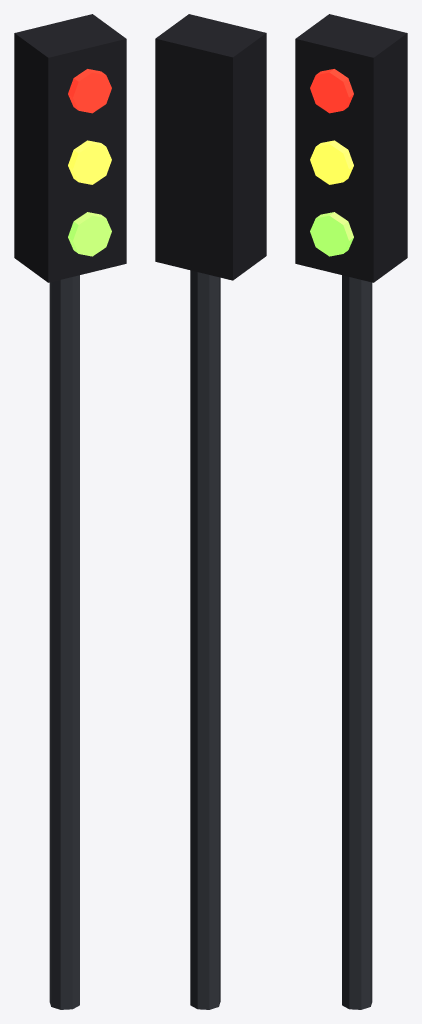
File: traffic_light.glb
3 views of the same model, side by side, from view 1: azimuth 30°, elevation 25°; view 2: azimuth 150°, elevation 25°; view 3: azimuth 330°, elevation 25° (orthographic).
Parts seen in each view (by area): view 1: traffic_light; view 2: traffic_light; view 3: traffic_light.
Part boxes in pixels (x1=…): traffic_light: x1=14, y1=14, x2=126, y2=1009; traffic_light: x1=155, y1=14, x2=266, y2=1009; traffic_light: x1=295, y1=14, x2=407, y2=1009.
Size of the model in its own units: 0.4 by 4.75 by 0.345.
